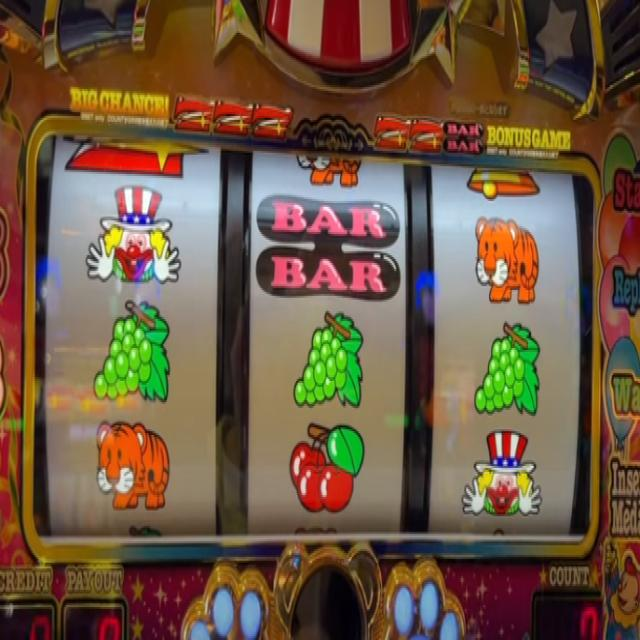bar: (256, 196, 401, 303), (444, 116, 482, 156)
bell: (467, 160, 540, 205)
cherry: (290, 420, 365, 514)
clown: (85, 185, 182, 286), (462, 429, 543, 522)
display: (35, 134, 590, 541)
grape: (94, 298, 170, 406), (292, 310, 363, 410), (473, 318, 540, 418)
tiger: (94, 417, 170, 512), (474, 216, 540, 305), (292, 148, 363, 190)
z: (64, 133, 210, 178), (253, 98, 293, 137), (214, 97, 254, 134), (374, 112, 410, 152), (174, 96, 215, 130), (411, 116, 444, 153)
